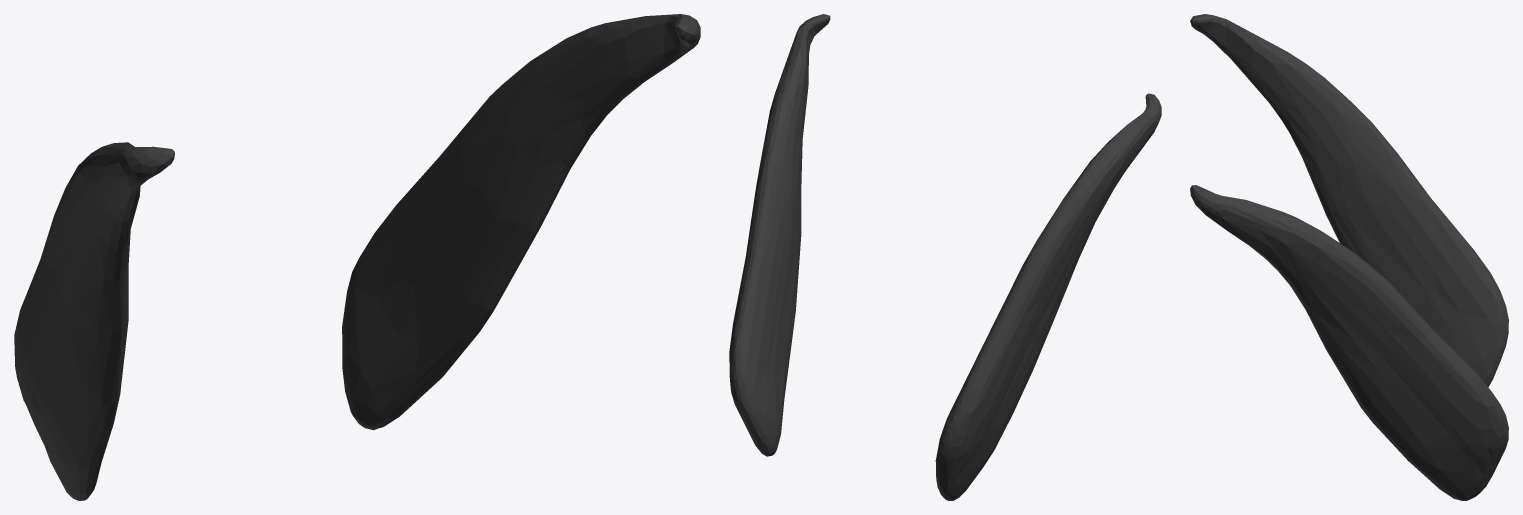
The model's file is m_infraspinatus.glb.
3 renders of one model, left to right at view 1: azimuth 30°, elevation 25°; view 2: azimuth 150°, elevation 25°; view 3: azimuth 270°, elevation 25°, orthographic. The views are drawn at different scales.
Parts seen in each view (by area): view 1: m_infraspinatus; view 2: m_infraspinatus; view 3: m_infraspinatus.
Boxes of the visible parts, left/top/right/bottom form: m_infraspinatus: left=14, top=14, right=700, bottom=500; m_infraspinatus: left=729, top=14, right=1161, bottom=500; m_infraspinatus: left=1190, top=14, right=1508, bottom=500.
Size of the model in its own units: 0.00429 by 0.00376 by 0.00309.
1 material, 1 textured.
